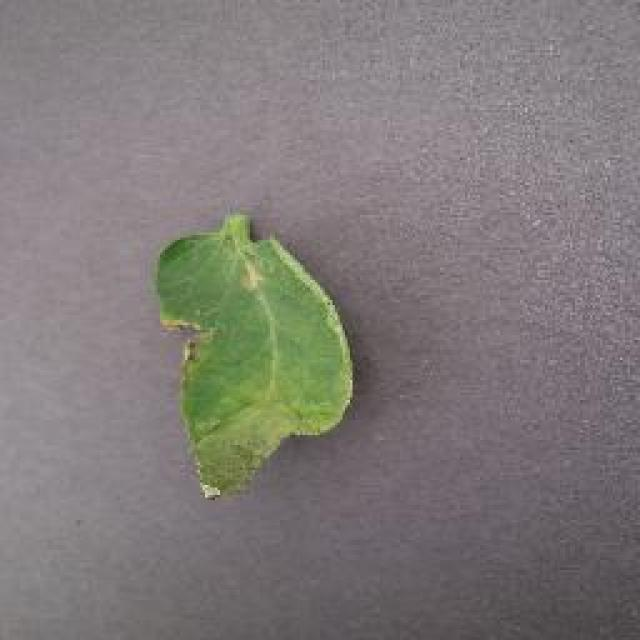Tomato Late Blight: (172, 215, 270, 493)
